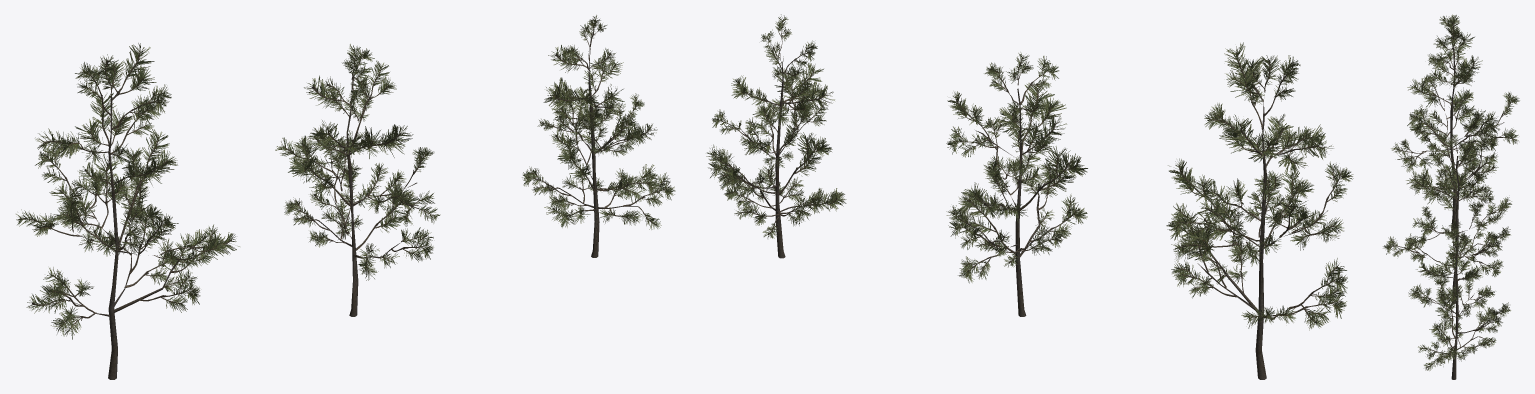
Rendered from pine_sapling_small.glb.
The picture shows the model from 3 angles, left to right: view 1: azimuth 30°, elevation 25°; view 2: azimuth 150°, elevation 25°; view 3: azimuth 270°, elevation 25°; orthographic projection. The views are drawn at different scales.
Visible parts, largest first — view 1: pine_sapling_small_a, pine_sapling_small_b, pine_sapling_small_c; view 2: pine_sapling_small_a, pine_sapling_small_b, pine_sapling_small_c; view 3: pine_sapling_small_a, pine_sapling_small_b, pine_sapling_small_c.
Boxes of the visible parts, <box> form: pine_sapling_small_a: <box>16,43,239,379</box>; pine_sapling_small_b: <box>275,44,440,316</box>; pine_sapling_small_c: <box>522,15,675,257</box>; pine_sapling_small_a: <box>1166,42,1353,379</box>; pine_sapling_small_b: <box>946,52,1087,316</box>; pine_sapling_small_c: <box>706,14,846,258</box>; pine_sapling_small_a: <box>1391,14,1519,230</box>; pine_sapling_small_b: <box>1383,133,1511,304</box>; pine_sapling_small_c: <box>1408,223,1510,379</box>.
Size of the model in its own units: 2.64 by 1.3 by 0.7703.
Materials: 2 (2 with a texture image).
